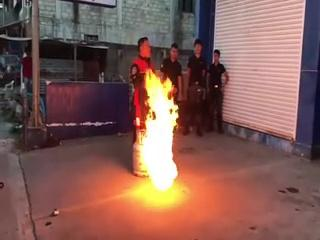Fire: (131, 65, 180, 191)
